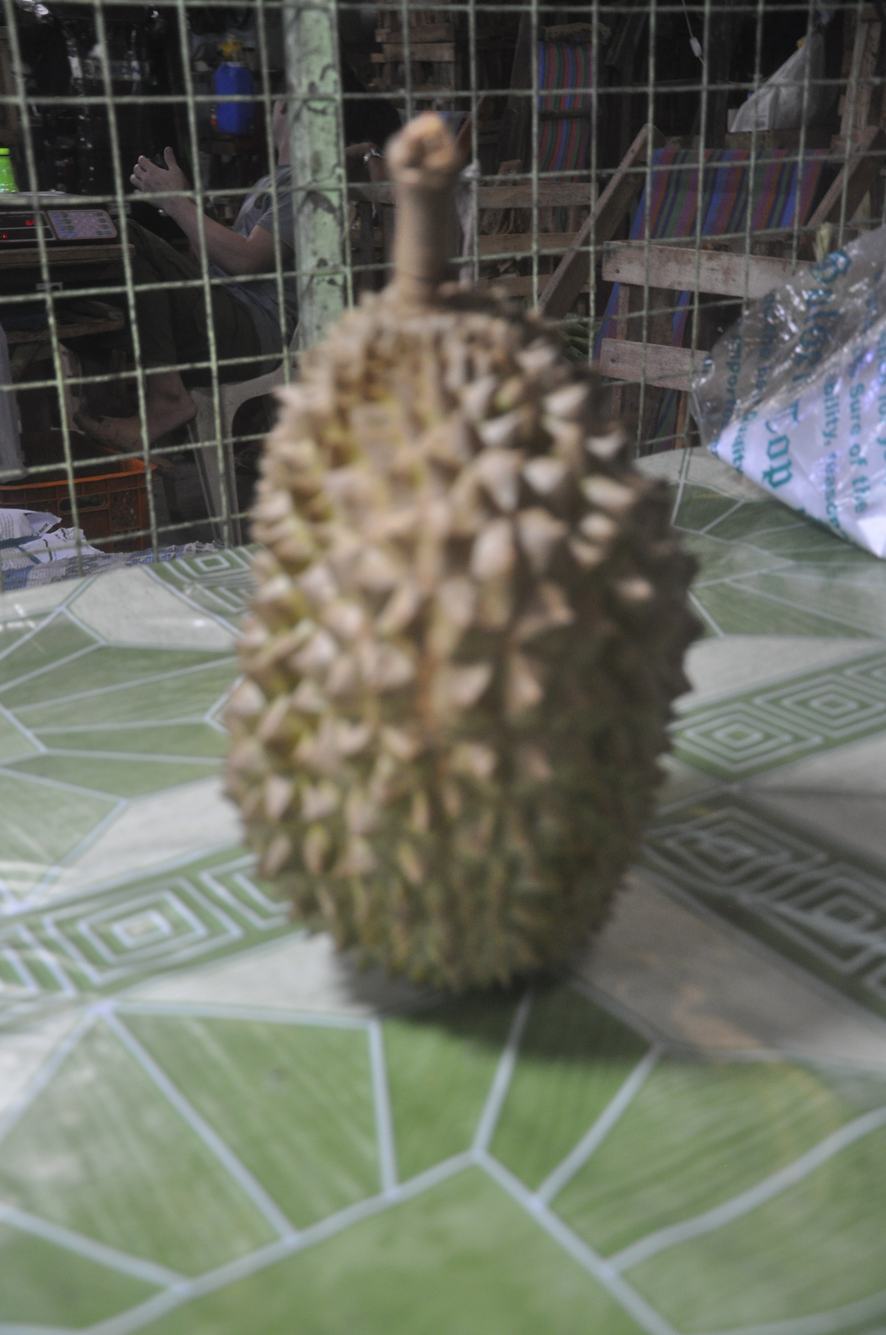mature: (225, 113, 701, 990)
